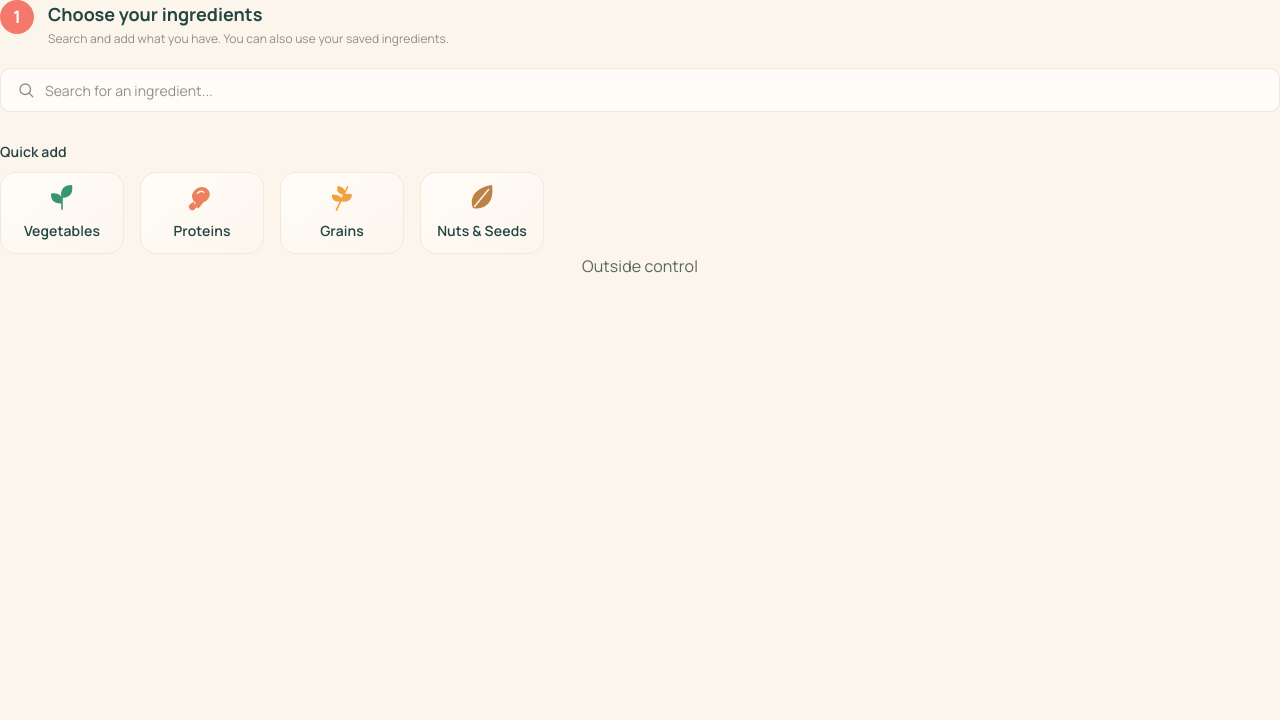
ingredient Quick add integration › dismisses mobile with close and restores inertness, scrolling and focus
This screenshot has width=1280, height=720.
Click the button "Nuts & Seeds": coordinates (482, 213) x1=420 y1=172 x2=544 y2=254
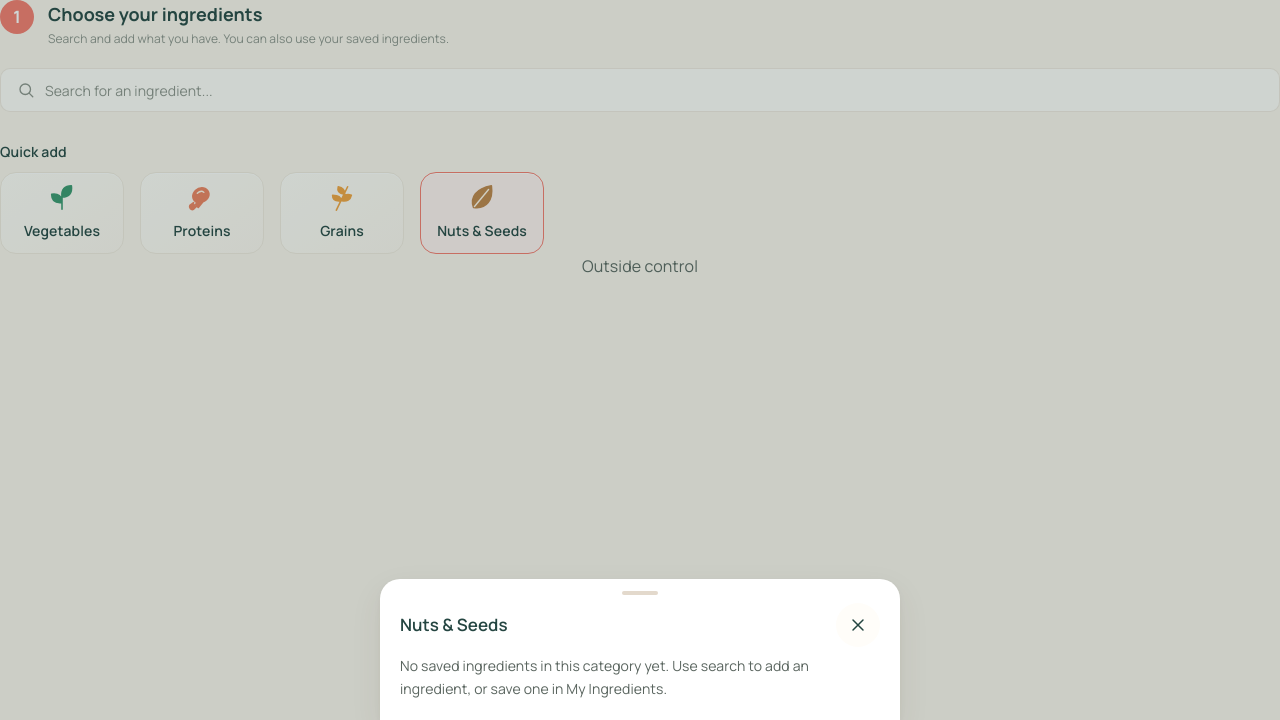
Click the button named "Close ingredient picker": coordinates (858, 625) x1=836 y1=603 x2=880 y2=647
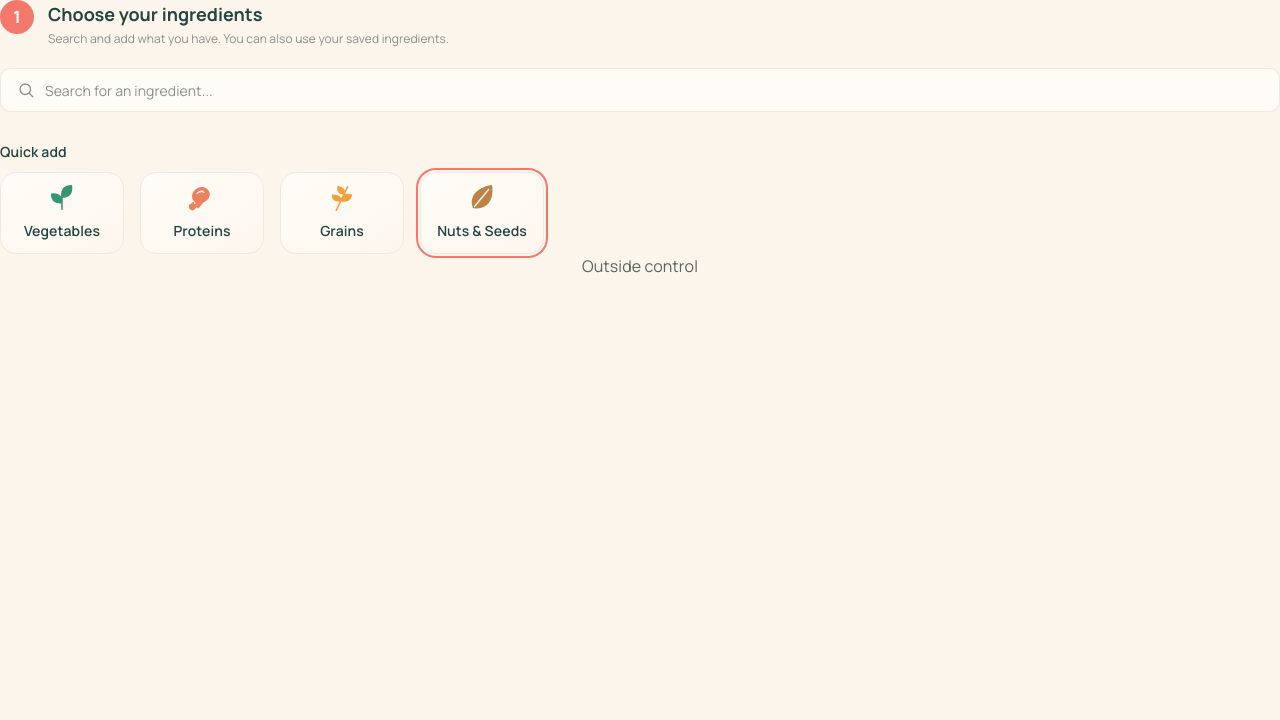
Result: the dialog is gone
